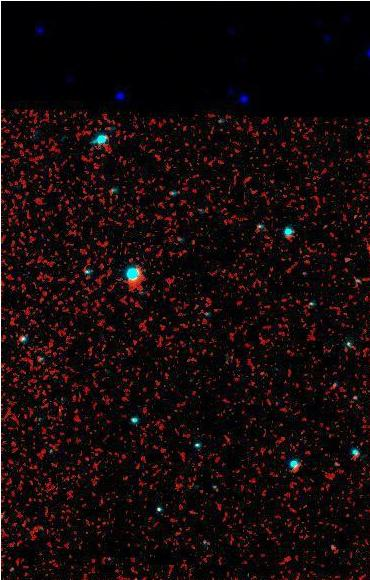star: (314, 212, 344, 242)
